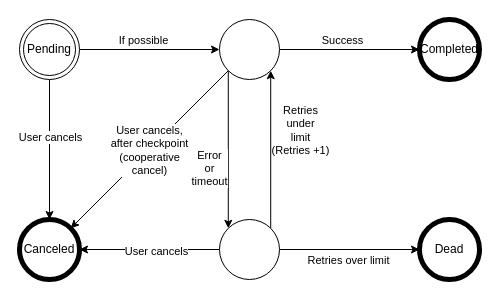
Image size: 499x299. Some labels were removed from this diagram. The centre of each missing label's shape, as x and y in pixels:
Failed: the point at 249,249
Running: the point at 249,49
